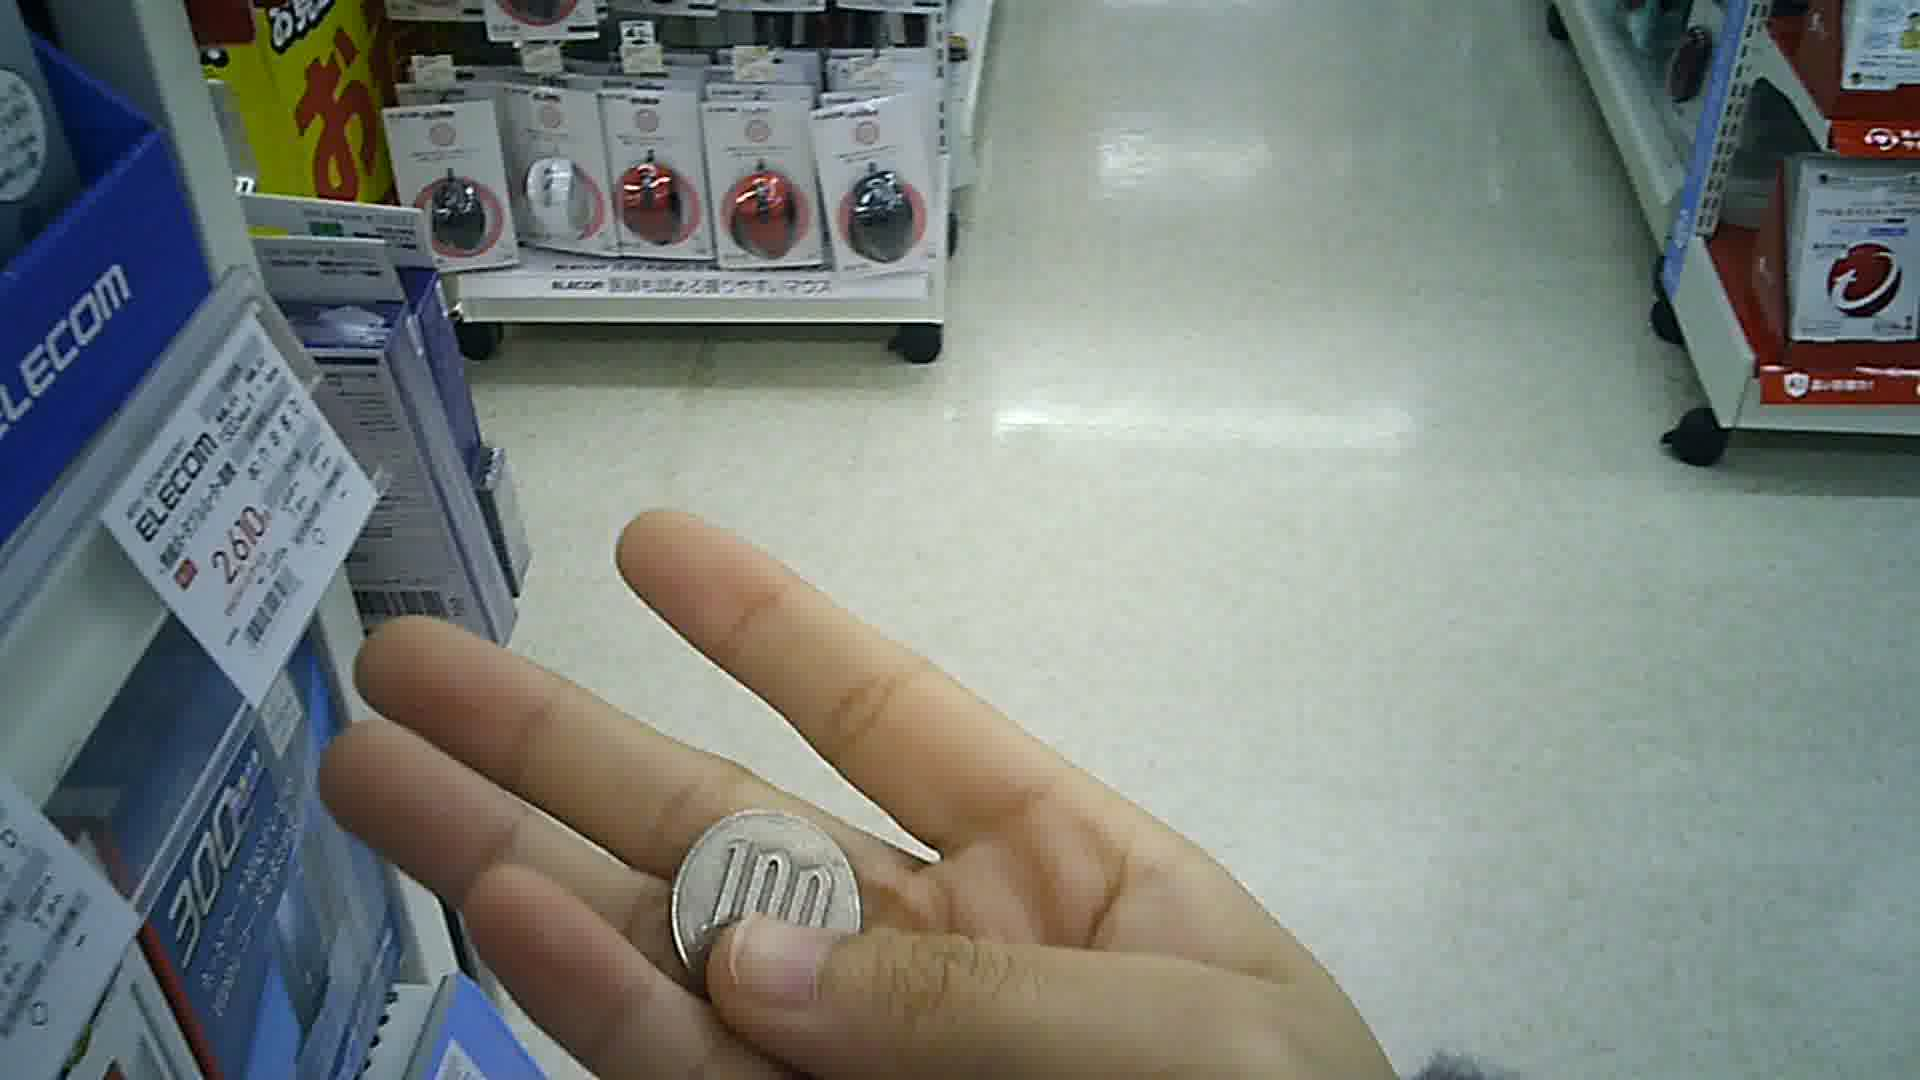100 Yen: (661, 793, 880, 982)
